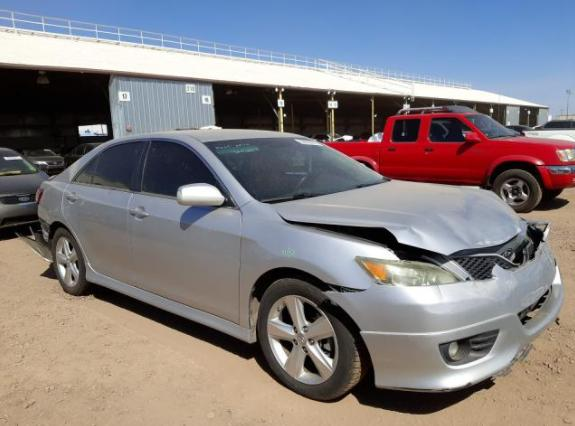Back-bumper: (16, 227, 52, 261)
Back-door: (61, 139, 148, 286)
Back-wheel: (52, 227, 94, 295)
Back-window: (74, 143, 146, 190)
Fender: (239, 199, 399, 329)
Front-bumper: (322, 240, 564, 393)
Front-door: (127, 138, 242, 325)
Front-wheel: (257, 278, 365, 400)
Front-window: (142, 140, 216, 197)
Grille: (422, 219, 550, 280)
Headlight: (354, 256, 459, 286)
Hood: (269, 179, 524, 256)
Mirror: (177, 183, 229, 206)
Quarter-panel: (38, 180, 88, 263)
Rocker-panel: (85, 262, 252, 344)
Roof: (139, 130, 307, 142)
Tail-light: (36, 187, 44, 205)
Windshield: (202, 138, 389, 203)
